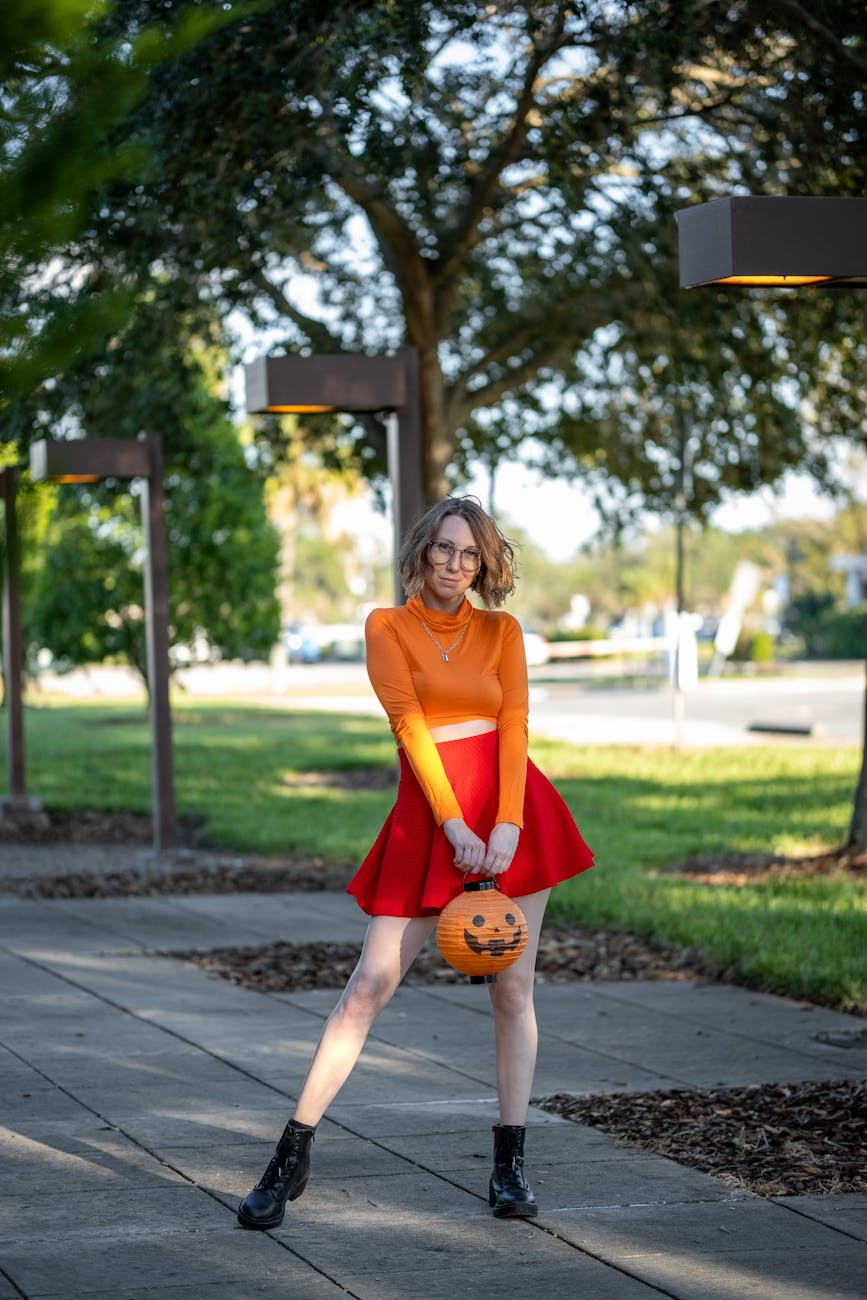crop_top: (379, 602, 526, 745)
short_medium_skirt: (347, 730, 598, 919)
